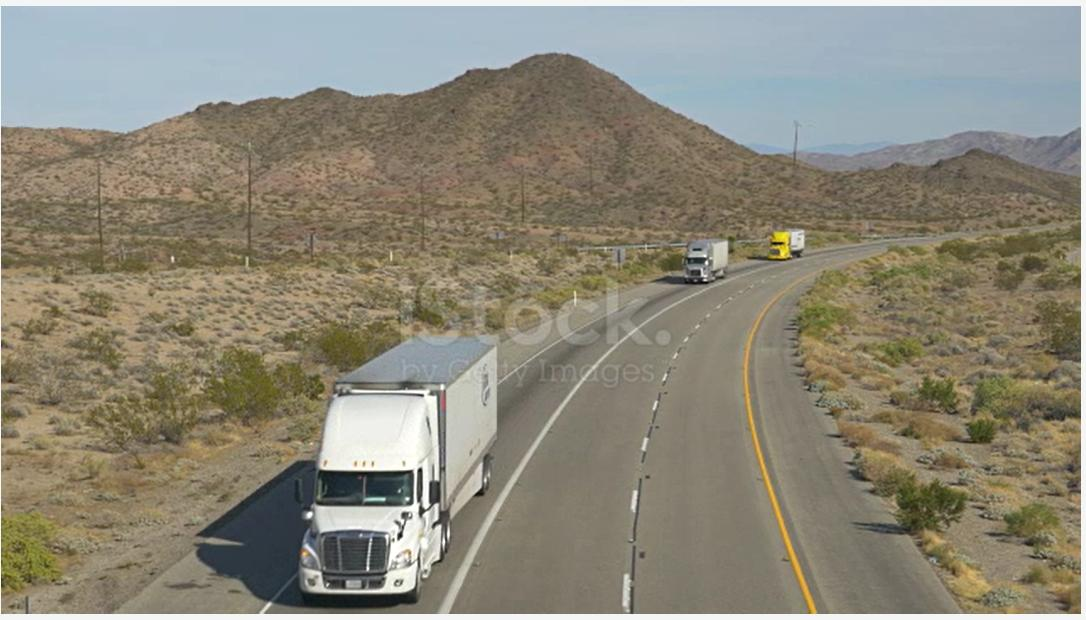truck: (239, 309, 531, 620), (669, 221, 766, 302), (763, 215, 813, 280)
